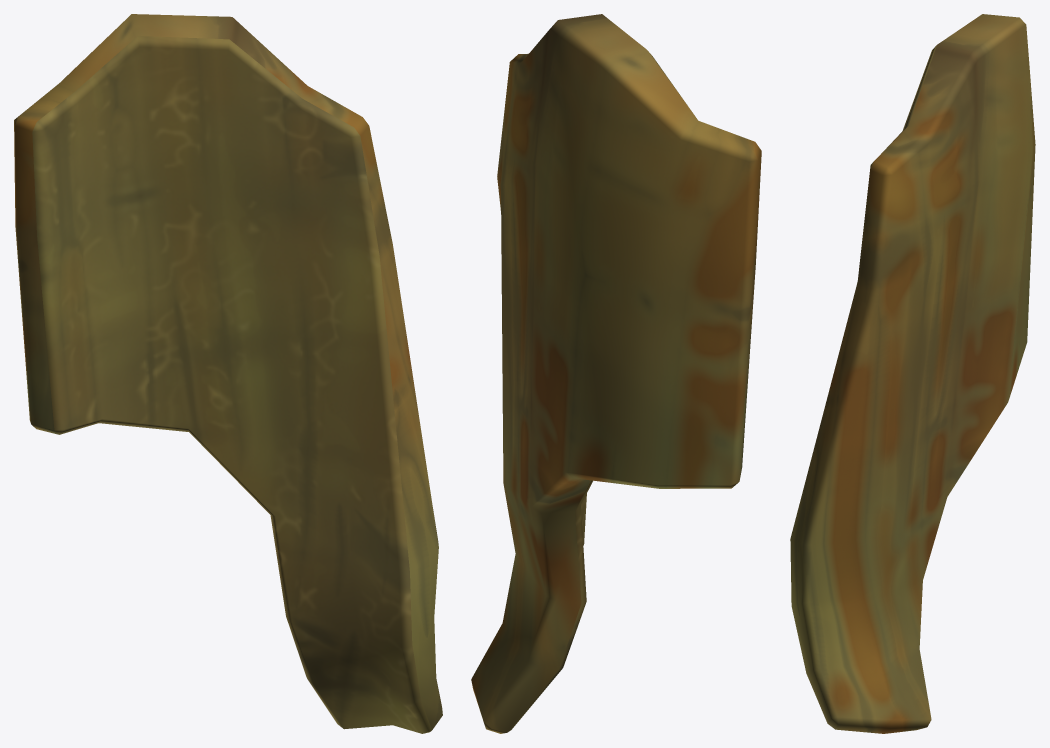
File: env_forest_gianttree_barkchunk01.fbx
The picture shows the model from 3 angles, left to right: view 1: azimuth 30°, elevation 25°; view 2: azimuth 150°, elevation 25°; view 3: azimuth 270°, elevation 25°; orthographic projection. The views are drawn at different scales.
Visible parts, largest first — view 1: barkchunk01; view 2: barkchunk01; view 3: barkchunk01.
Part boxes in pixels (bbox=[...]): barkchunk01: bbox=[14, 14, 442, 733]; barkchunk01: bbox=[471, 14, 761, 733]; barkchunk01: bbox=[790, 14, 1035, 733].
Bounding box in the file's own units: 11.42 × 22.96 × 7.93.
